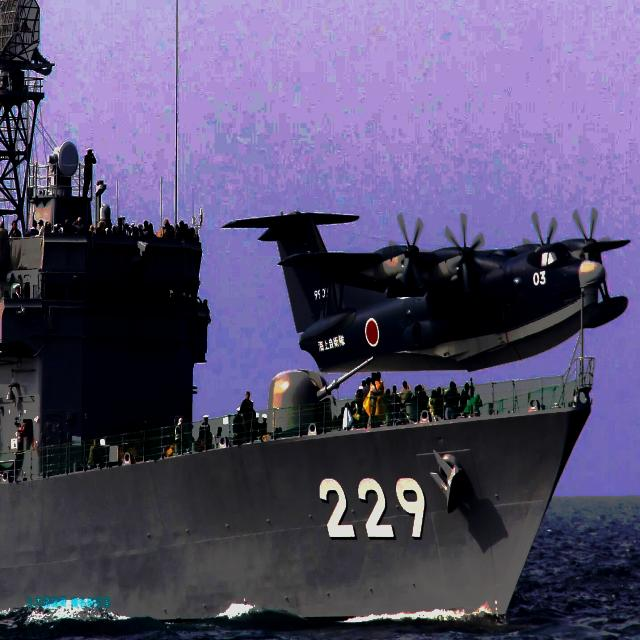Aircraft: (225, 207, 639, 411)
